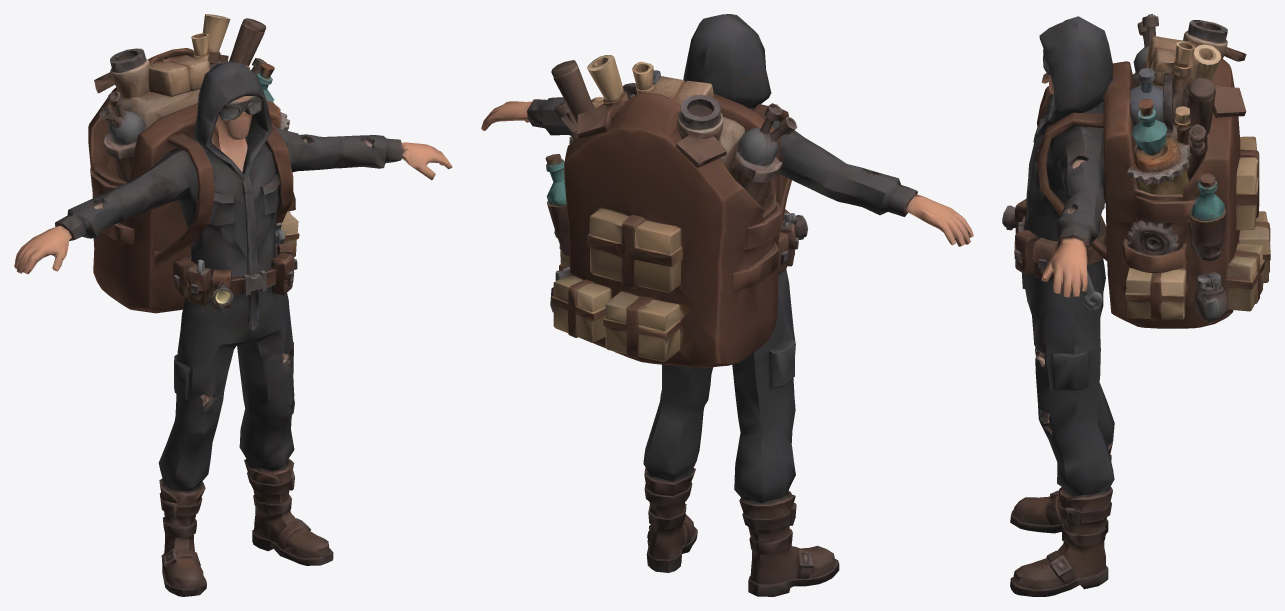
The model's file is char_m_adventurer_idle.glb.
3 renders of one model, left to right at view 1: azimuth 30°, elevation 25°; view 2: azimuth 150°, elevation 25°; view 3: azimuth 270°, elevation 25°, orthographic. The views are drawn at different scales.
Visible parts, largest first — view 1: tripo_node_b69483ab-1e85-4612-993f-8d1e70d5b37f; view 2: tripo_node_b69483ab-1e85-4612-993f-8d1e70d5b37f; view 3: tripo_node_b69483ab-1e85-4612-993f-8d1e70d5b37f.
Boxes of the visible parts, bbox=[...] form: tripo_node_b69483ab-1e85-4612-993f-8d1e70d5b37f: bbox=[14, 14, 452, 596]; tripo_node_b69483ab-1e85-4612-993f-8d1e70d5b37f: bbox=[481, 14, 973, 596]; tripo_node_b69483ab-1e85-4612-993f-8d1e70d5b37f: bbox=[1002, 14, 1270, 596].
Size of the model in its own units: 1.63 by 1.8 by 0.812.
Materials: 1 (1 with a texture image).
